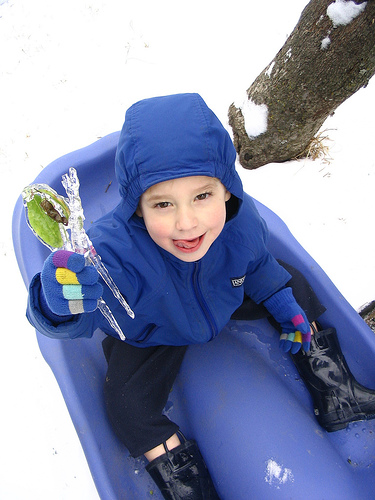without_mask: (138, 164, 236, 266)
